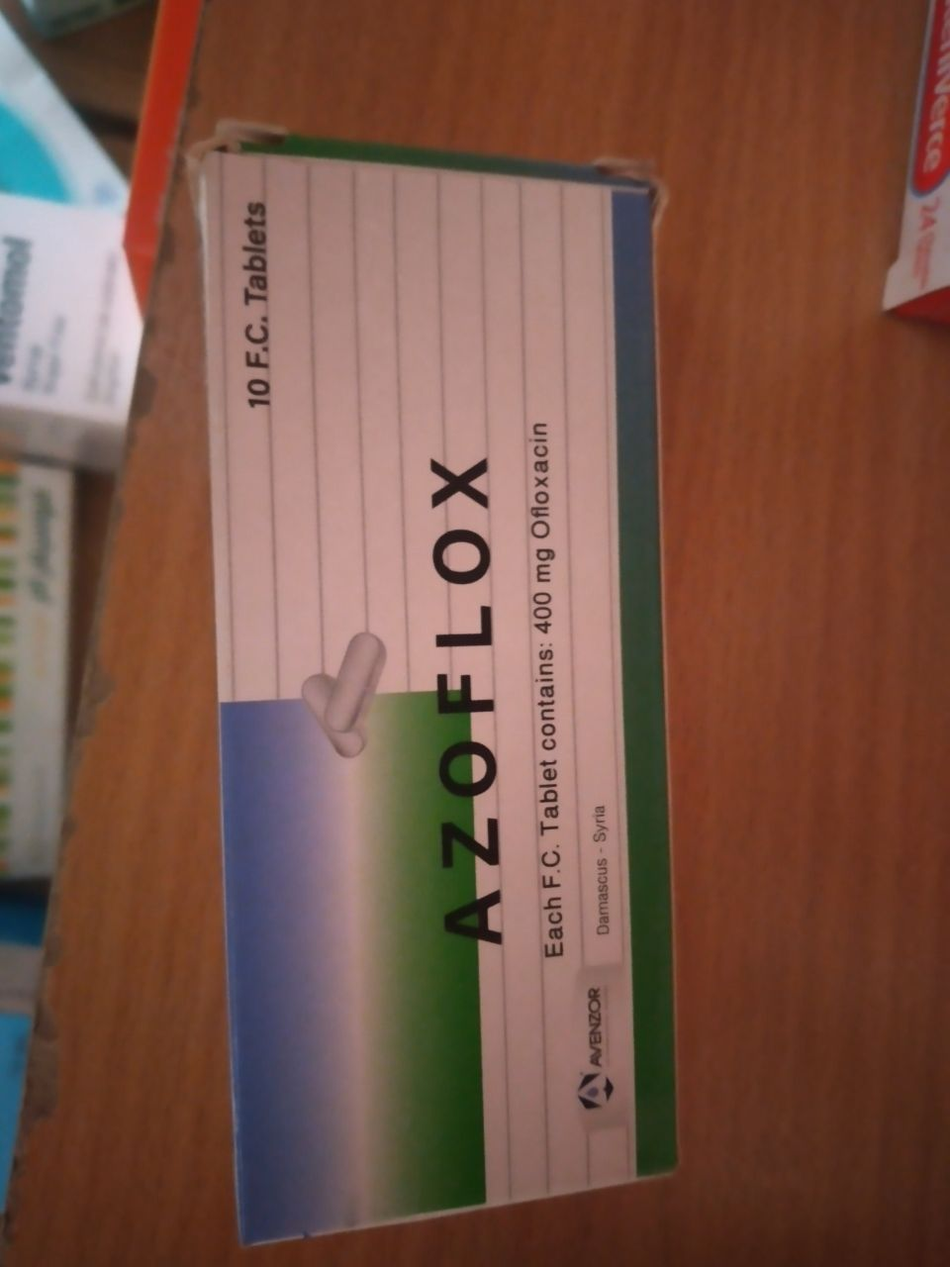Medicine: (142, 89, 732, 1267)
